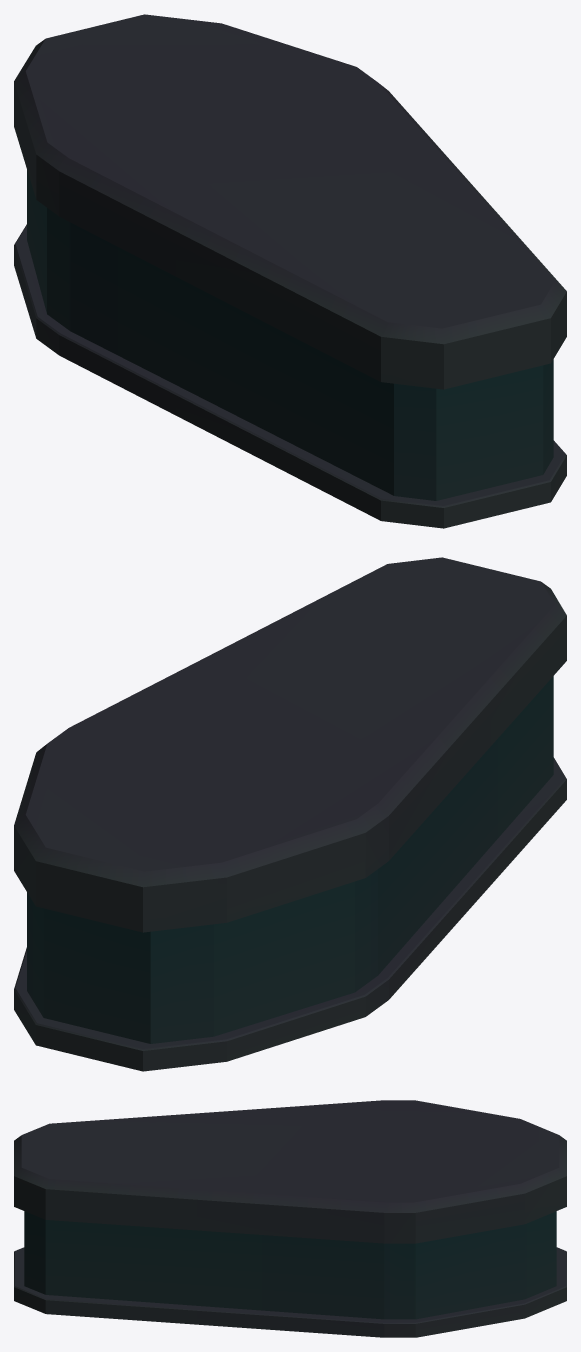
3 renders of one model, top to bottom at view 1: azimuth 30°, elevation 25°; view 2: azimuth 150°, elevation 25°; view 3: azimuth 270°, elevation 25°, orthographic. The views are drawn at different scales.
Parts seen in each view (by area): view 1: lid, walls, base; view 2: lid, walls, base; view 3: lid, walls, base.
Part boxes in pixels (x1,y1,x2,y2): lid: [14, 14, 566, 389]; walls: [27, 170, 553, 500]; base: [14, 224, 566, 528]; lid: [14, 557, 566, 932]; walls: [27, 676, 553, 1043]; base: [14, 757, 566, 1071]; lid: [14, 1100, 566, 1243]; walls: [24, 1211, 556, 1319]; base: [14, 1247, 566, 1337].
Size of the model in its own units: 1.03 by 0.58 by 2.2.
